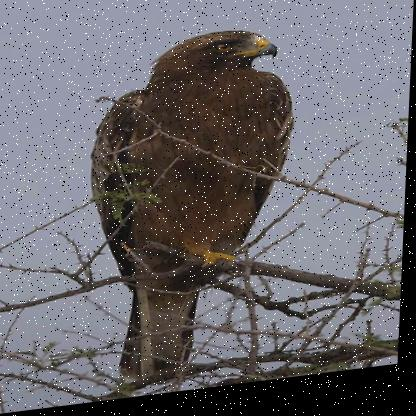Burung: (85, 29, 297, 400)
